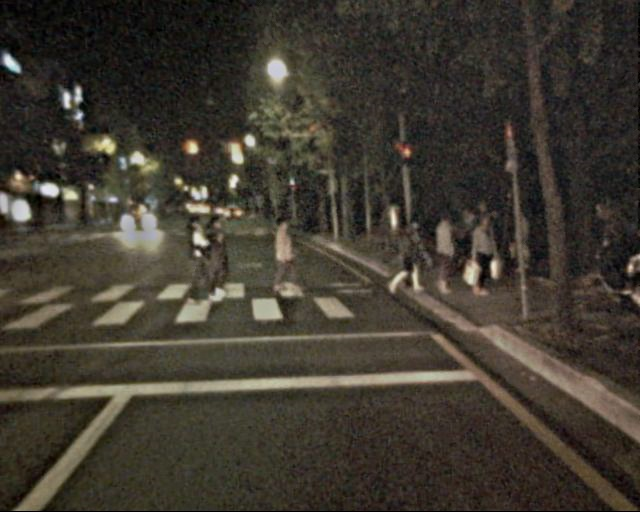person: (175, 214, 211, 303), (197, 213, 232, 298), (426, 211, 460, 295), (469, 213, 503, 295), (384, 216, 417, 297), (266, 213, 299, 293), (503, 204, 534, 280), (612, 193, 640, 265), (482, 207, 510, 276), (456, 205, 483, 271)
